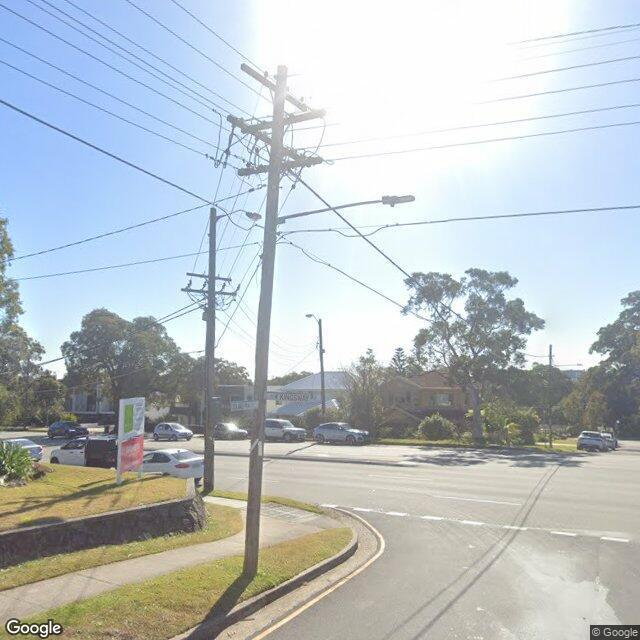crossarm: (226, 114, 310, 168), (240, 63, 308, 112), (240, 106, 328, 134), (237, 156, 323, 177), (187, 270, 232, 283), (181, 288, 236, 296)
streetlight: (276, 194, 417, 225), (216, 208, 263, 221), (305, 313, 321, 325), (551, 364, 583, 366)
timber-pole: (243, 65, 286, 577), (204, 207, 216, 492), (318, 319, 326, 421), (549, 344, 553, 449)
